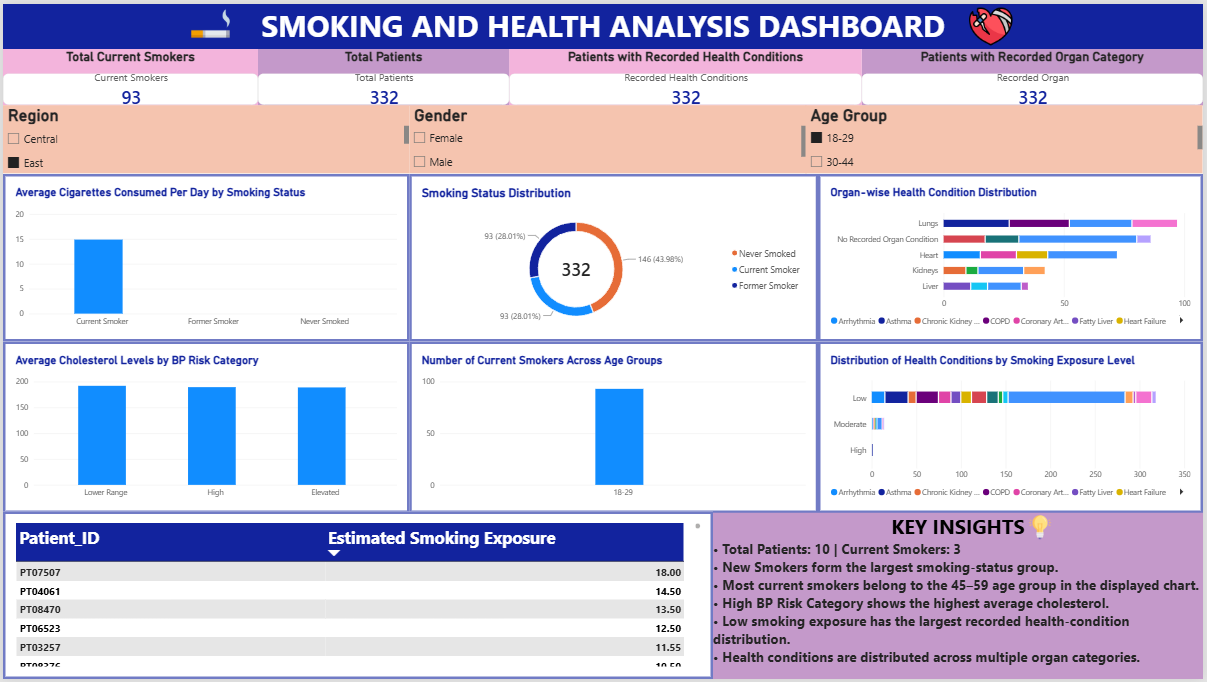

This screenshot's page, from the dashboard's own definition file:
{"tool":"powerbi","page":{"name":"Page 1","canvas":[1920,1080],"ordinal":0},"visuals":[{"type":"clusteredColumnChart","title":"Average Cigarettes Consumed Per Day by Smoking Status","fields":{"Category":["Smoking_Health_Analysis.Smoking_Status"],"Y":["Avg(Smoking_Health_Analysis.Cigarettes_Per_Day)"]},"box":[0,272,650,268],"z":0},{"type":"donutChart","title":"Smoking Status Distribution","fields":{"Category":["Smoking_Health_Analysis.Smoking_Status"],"Y":["Count(Smoking_Health_Analysis.Patient_ID)"]},"box":[650,272,654,268],"z":1000},{"type":"barChart","title":"Organ-wise Health Condition Distribution","fields":{"Category":["Smoking_Health_Analysis.Diagnosed_Organ"],"Series":["Smoking_Health_Analysis.Health_Condition"],"Y":["Count(Smoking_Health_Analysis.Patient_ID)"]},"box":[1304,272,616,268],"z":2000},{"type":"clusteredColumnChart","title":"Average Cholesterol Levels by BP Risk Category","fields":{"Category":["Smoking_Health_Analysis.BP Risk Category"],"Y":["Avg(Smoking_Health_Analysis.Total_Cholesterol_mg_dL)"]},"box":[0,540,650,274],"z":3000},{"type":"clusteredColumnChart","title":"Number of Current Smokers Across Age Groups","fields":{"Category":["Smoking_Health_Analysis.Age Group"],"Y":["Smoking_Health_Analysis.Current Smokers"]},"box":[650,540,654,274],"z":4000},{"type":"tableEx","fields":{"Values":["Smoking_Health_Analysis.Patient_ID","Smoking_Health_Analysis.Estimated Smoking Exposure"]},"box":[0,812,1136,268],"z":5000},{"type":"barChart","title":"Distribution of Health Conditions by Smoking Exposure Level","fields":{"Category":["Smoking_Health_Analysis.Smoking Exposure Level"],"Series":["Smoking_Health_Analysis.Health_Condition"],"Y":["Count(Smoking_Health_Analysis.Patient_ID)"]},"box":[1304,540,616,274],"z":6000},{"type":"cardVisual","title":"Total Patients","fields":{"Data":["Smoking_Health_Analysis.Total Patients"]},"box":[408,72,402,90],"z":7000},{"type":"cardVisual","title":"Total Current Smokers","fields":{"Data":["Smoking_Health_Analysis.Current Smokers"]},"box":[0,72,408,90],"z":8000},{"type":"cardVisual","title":"Patients with Recorded Organ Category","fields":{"Data":["Smoking_Health_Analysis.Recorded Organ"]},"box":[1374,72,546,90],"z":9000},{"type":"cardVisual","title":"Patients with Recorded Health Conditions","fields":{"Data":["Smoking_Health_Analysis.Recorded Health Conditions"]},"box":[810,72,564,90],"z":10000},{"type":"slicer","fields":{"Values":["Smoking_Health_Analysis.Region"]},"box":[0,162.9,649.7,108.6],"z":11000},{"type":"slicer","fields":{"Values":["Smoking_Health_Analysis.Gender"]},"box":[649.7,162.9,635.2,108.6],"z":12000},{"type":"slicer","fields":{"Values":["Smoking_Health_Analysis.Age Group"]},"box":[1284.9,162.9,635.2,108.6],"z":13000},{"type":"textbox","box":[0,0,1920,72],"z":14000},{"type":"textbox","box":[1136,814,784,266],"z":15000},{"type":"image","box":[1620,818,78,38],"z":15001},{"type":"image","box":[246,0,172,62],"z":15002},{"type":"image","box":[1530,0,100,72],"z":15003}]}

Visuals, with their boxes in screenshot pixels (x1, y1, x2, y2), scaled from the page's 1920x1080 canvas onto the 1207x682 screenshot:
"Average Cigarettes Consumed Per Day by Smoking Status" clusteredColumnChart: <bbox>0, 172, 409, 341</bbox>
"Smoking Status Distribution" donutChart: <bbox>409, 172, 820, 341</bbox>
"Organ-wise Health Condition Distribution" barChart: <bbox>820, 172, 1206, 341</bbox>
"Average Cholesterol Levels by BP Risk Category" clusteredColumnChart: <bbox>0, 341, 409, 514</bbox>
"Number of Current Smokers Across Age Groups" clusteredColumnChart: <bbox>409, 341, 820, 514</bbox>
tableEx - Smoking_Health_Analysis.Patient_ID x Smoking_Health_Analysis.Estimated Smoking Exposure: <bbox>0, 513, 714, 681</bbox>
"Distribution of Health Conditions by Smoking Exposure Level" barChart: <bbox>820, 341, 1206, 514</bbox>
"Total Patients" cardVisual: <bbox>256, 45, 509, 102</bbox>
"Total Current Smokers" cardVisual: <bbox>0, 45, 256, 102</bbox>
"Patients with Recorded Organ Category" cardVisual: <bbox>864, 45, 1206, 102</bbox>
"Patients with Recorded Health Conditions" cardVisual: <bbox>509, 45, 864, 102</bbox>
slicer - Smoking_Health_Analysis.Region: <bbox>0, 103, 408, 171</bbox>
slicer - Smoking_Health_Analysis.Gender: <bbox>408, 103, 808, 171</bbox>
slicer - Smoking_Health_Analysis.Age Group: <bbox>808, 103, 1206, 171</bbox>
textbox: <bbox>0, 0, 1206, 45</bbox>
textbox: <bbox>714, 514, 1206, 681</bbox>
image: <bbox>1018, 517, 1067, 541</bbox>
image: <bbox>155, 0, 263, 39</bbox>
image: <bbox>962, 0, 1025, 45</bbox>
